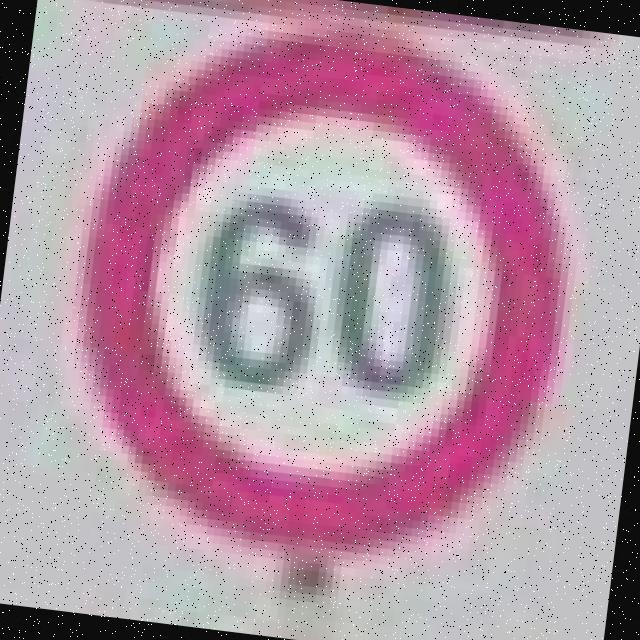Ograniczenie predkosci do 60: (46, 0, 588, 581)
